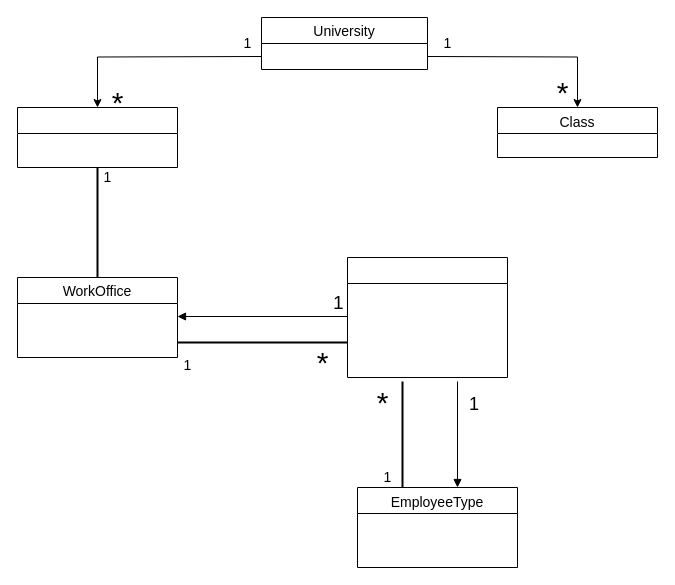
Some shapes in this 675 by 585 pixel diagram are drawn without their labels. Each missing label, with the box of its shape:
Departmant: (16, 106, 178, 168)
Employee: (346, 256, 508, 378)
